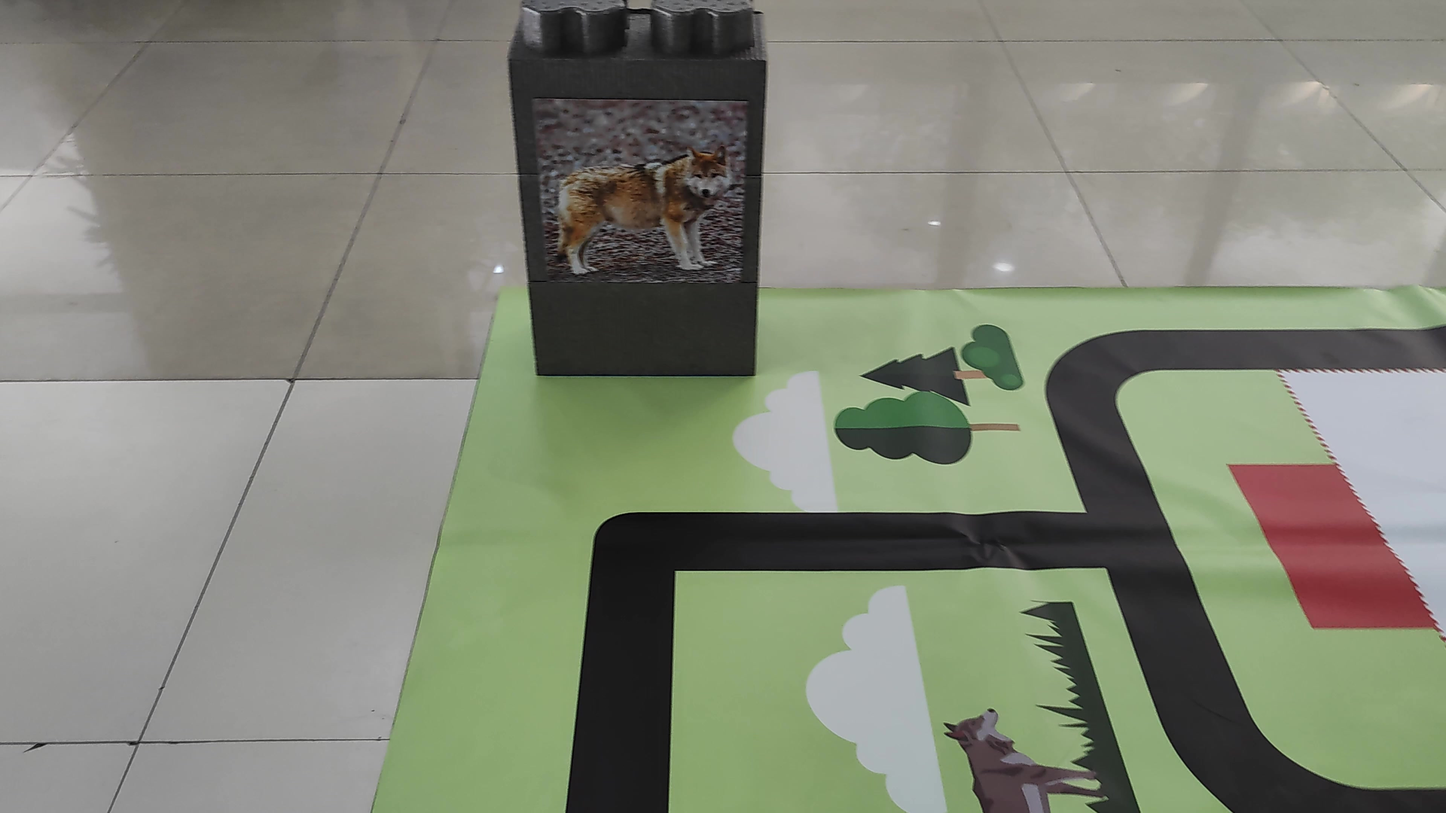wolf: (554, 112, 748, 285)
